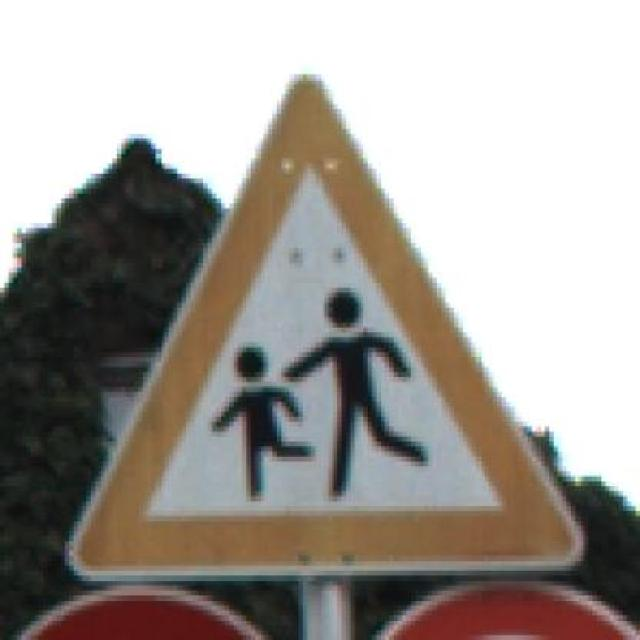Beware of children: (56, 69, 601, 580)
